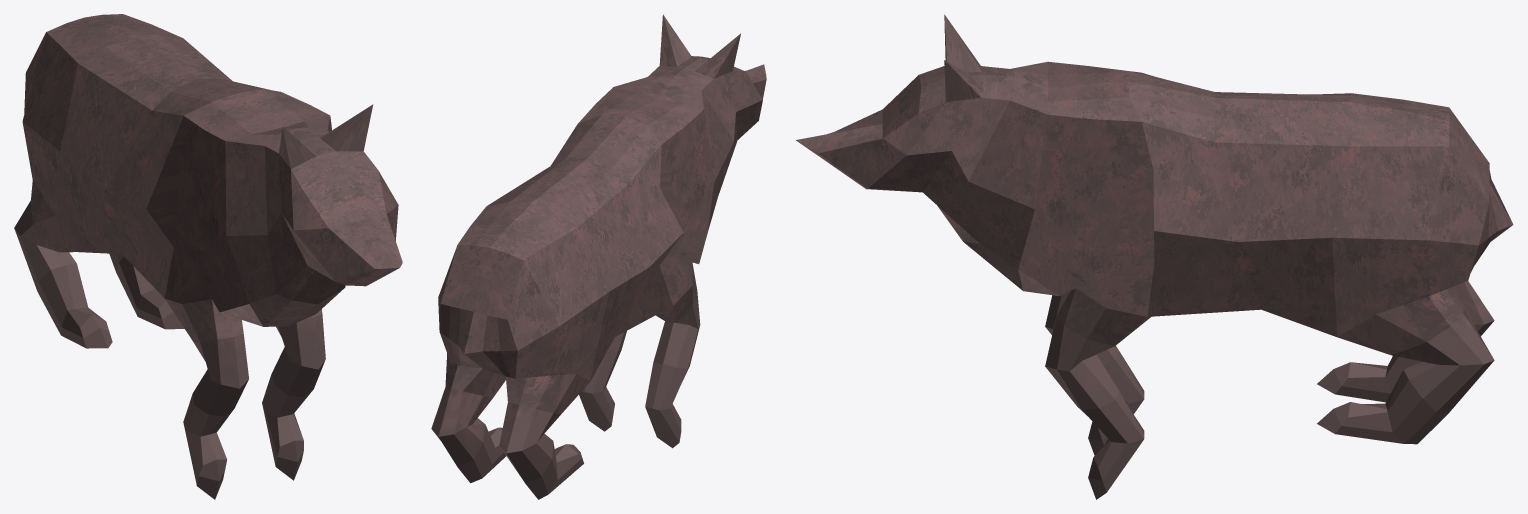
Rendered from piesblendtex_000031.obj.
3 views of the same model, side by side, from view 1: azimuth 30°, elevation 25°; view 2: azimuth 150°, elevation 25°; view 3: azimuth 270°, elevation 25° (orthographic). The views are drawn at different scales.
Parts seen in each view (by area): view 1: Cube; view 2: Cube; view 3: Cube.
Boxes of the visible parts, x1,y1,x2,y2 form: Cube: [14, 14, 402, 499]; Cube: [431, 14, 766, 499]; Cube: [796, 14, 1513, 499].
Size of the model in its own units: 2.56 by 6.53 by 9.58.
